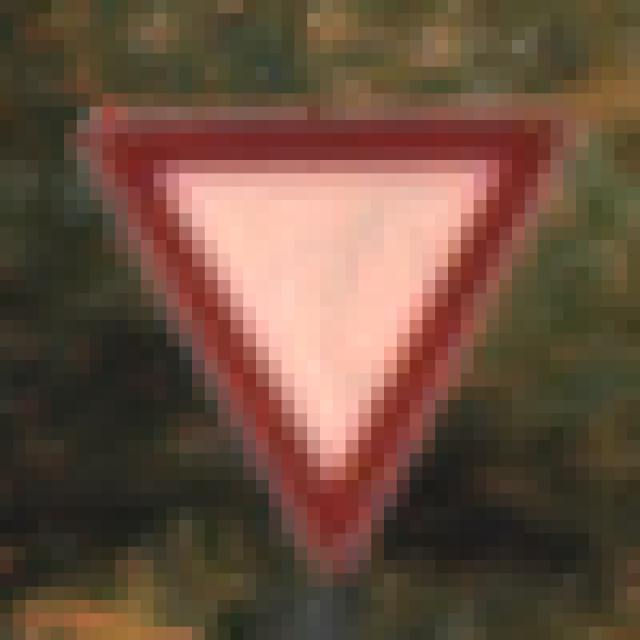Give Way: (65, 81, 577, 574)
